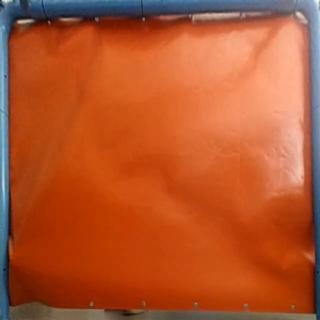Hit-hRxx: (9, 254, 23, 270)
